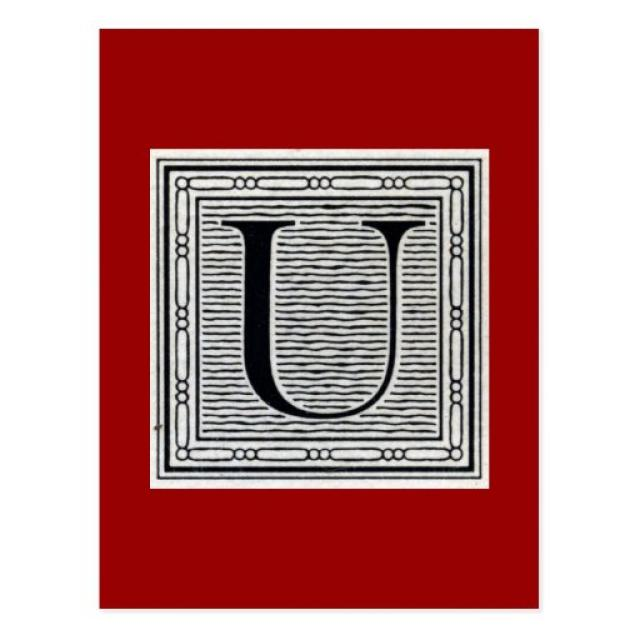U: (206, 207, 432, 436)
